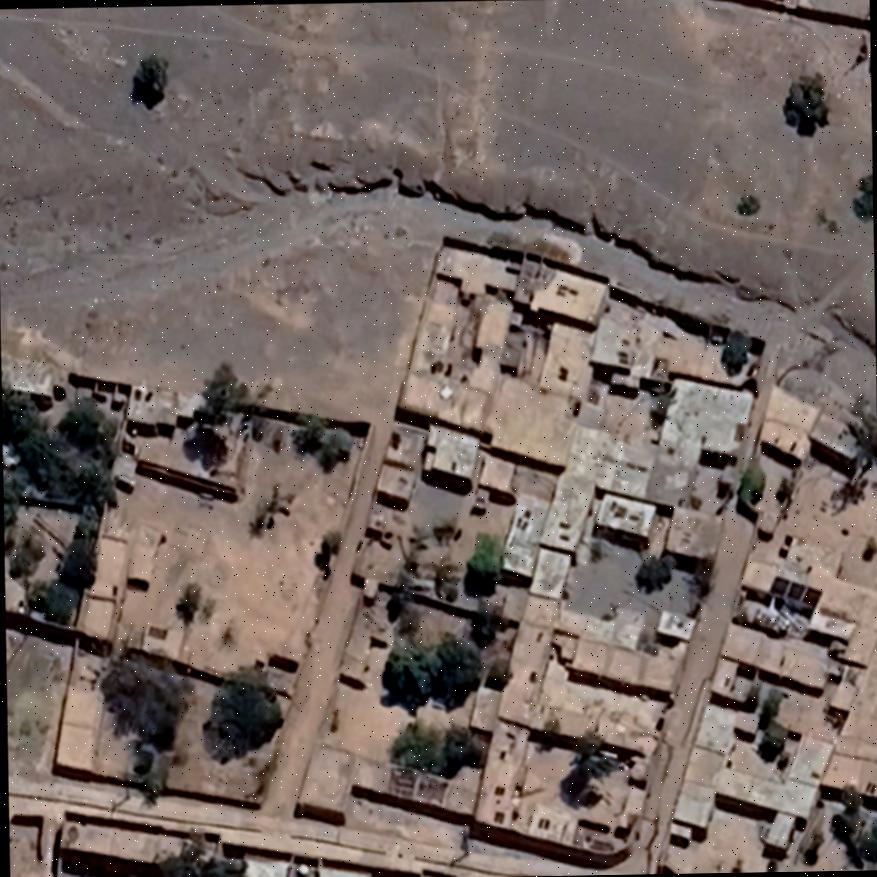Solarpanel: (768, 576, 824, 606)
